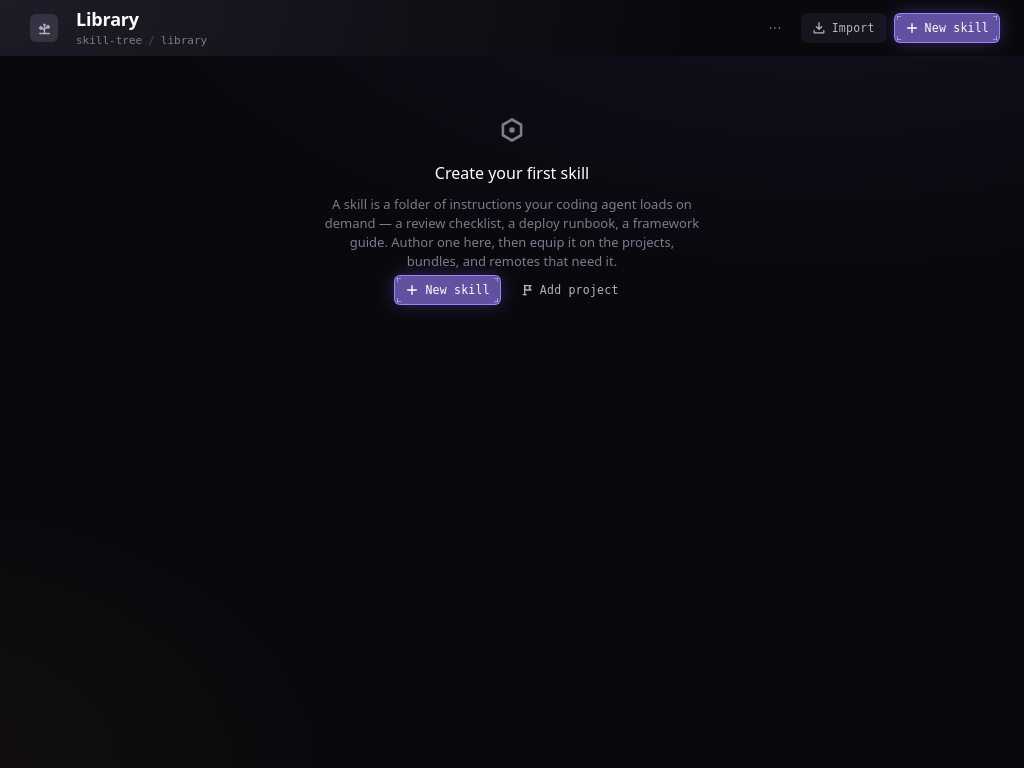
Test: SkillLibrary equip + empty states + candidate banner › shows a create-first-skill CTA when the registry has zero skills
The width and height of the screenshot is (1024, 768).
Expected: the heading "Create your first skill" is shown, [435,162,589,185]
Expected: the text "Create your first skill" is shown, [435,162,589,184]
Click the button "Add project" at (569, 290), box [509,275,630,305]
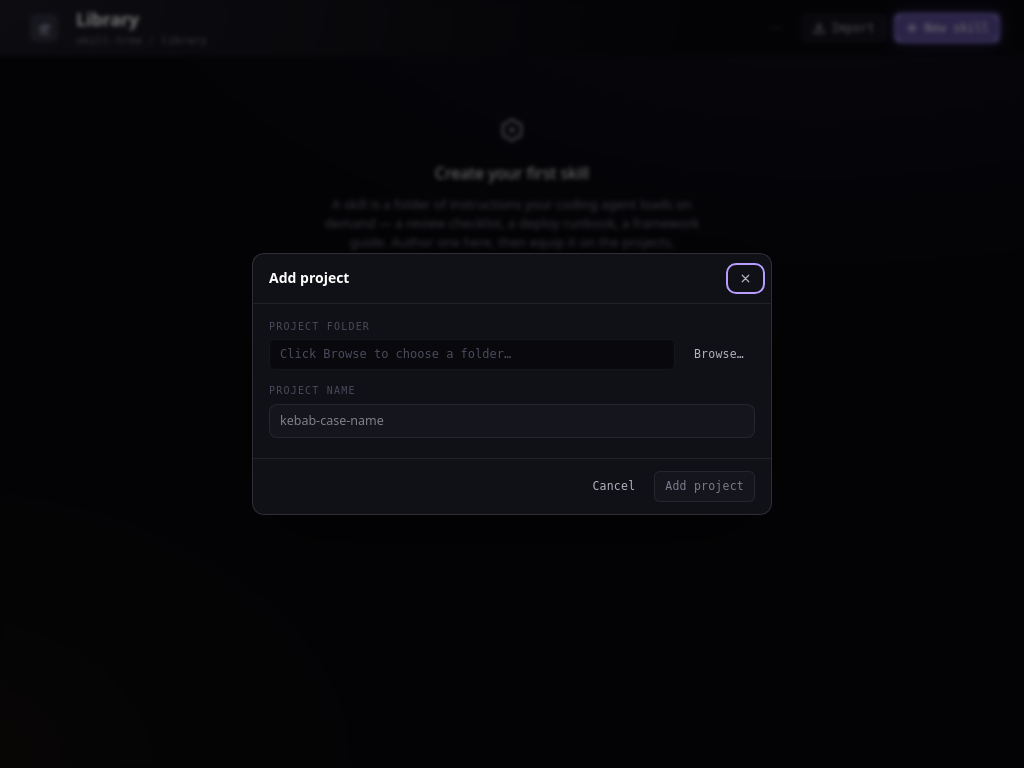
Now the text with class "modal-title" reads "Add project", box [269,268,350,287]
